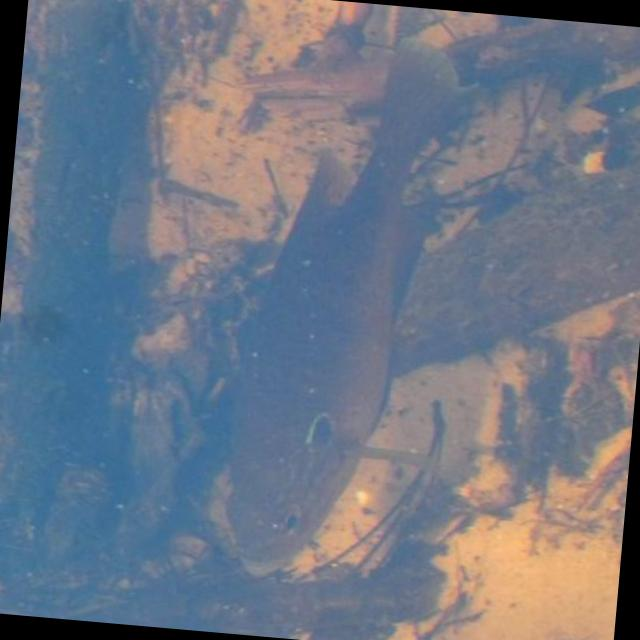Gunes Levregi: (204, 8, 486, 594)
